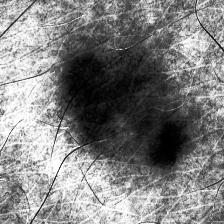Benign Marking or Mole: (60, 55, 192, 175)
